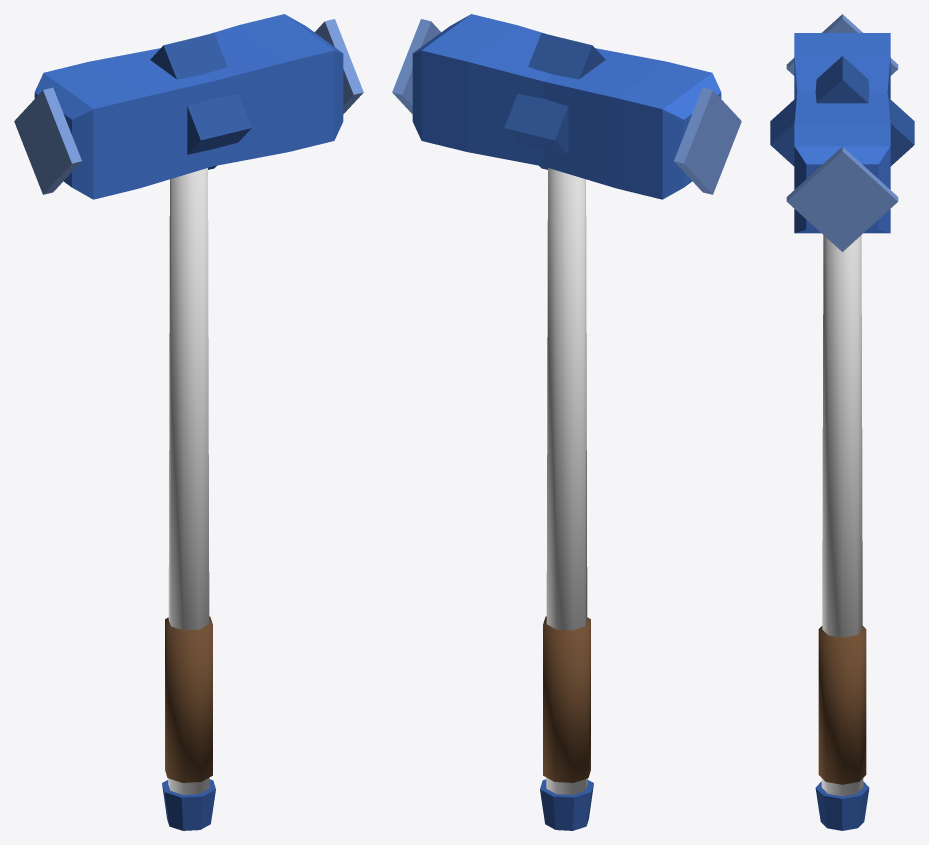
Rendered from hammush.glb.
3 views of the same model, side by side, from view 1: azimuth 30°, elevation 25°; view 2: azimuth 150°, elevation 25°; view 3: azimuth 270°, elevation 25° (orthographic). The views are drawn at different scales.
Parts seen in each view (by area): view 1: hammush_v0; view 2: hammush_v0; view 3: hammush_v0.
Boxes of the visible parts, x1,y1,x2,y2 form: hammush_v0: [14, 14, 363, 830]; hammush_v0: [392, 14, 741, 830]; hammush_v0: [770, 14, 914, 830].
Size of the model in its own units: 0.344 by 0.8813 by 0.1526.
